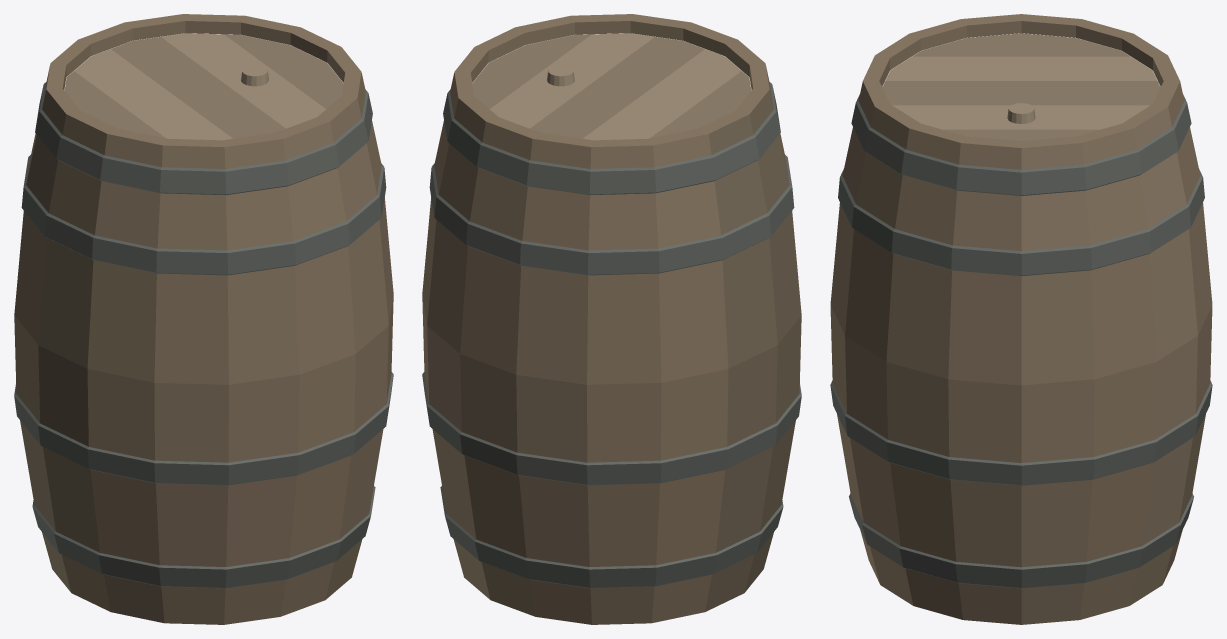
File: env_barrel_v10_bung_head.glb
The picture shows the model from 3 angles, left to right: view 1: azimuth 30°, elevation 25°; view 2: azimuth 150°, elevation 25°; view 3: azimuth 270°, elevation 25°; orthographic projection.
Visible parts, largest first — view 1: material_0, material_3, material_2, material_5, material_4; view 2: material_0, material_3, material_2, material_5, material_4; view 3: material_0, material_5, material_3, material_4.
Boxes of the visible parts, <box> form: material_0: <box>26,14,393,624</box>; material_3: <box>14,82,393,588</box>; material_2: <box>14,90,110,611</box>; material_5: <box>64,34,343,138</box>; material_4: <box>74,33,325,140</box>; material_0: <box>422,14,789,624</box>; material_3: <box>422,82,801,588</box>; material_2: <box>705,90,801,611</box>; material_5: <box>427,34,751,599</box>; material_4: <box>490,33,741,140</box>; material_0: <box>830,14,1212,624</box>; material_5: <box>882,33,1197,624</box>; material_3: <box>830,94,1212,588</box>; material_4: <box>885,56,1157,129</box>.
Size of the model in its own units: 0.6505 by 0.9 by 0.6505.
